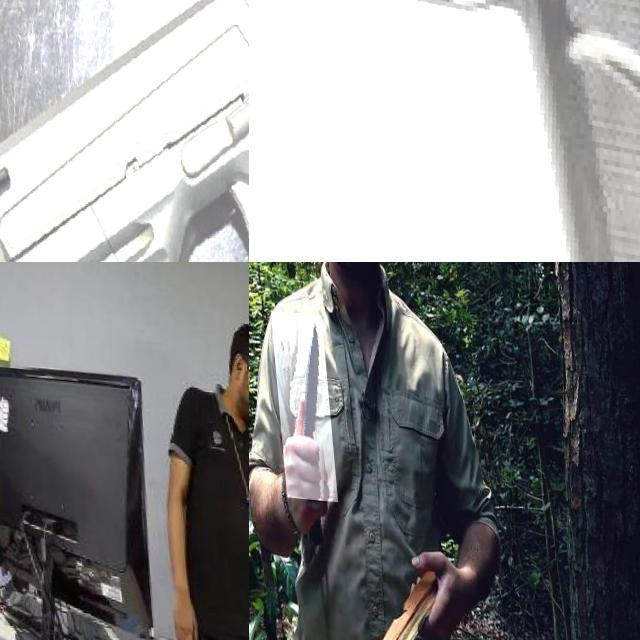-: (266, 306, 331, 497)
gun-knife-thesis - v11 Yolov5 augmented: (249, 0, 640, 262), (0, 0, 249, 262)
